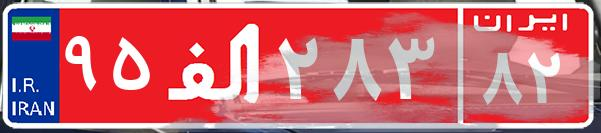2: (273, 28, 330, 110), (525, 38, 570, 115)
3: (385, 28, 445, 110)
5: (110, 28, 158, 105)
8: (330, 28, 385, 110), (475, 38, 525, 113)
9: (57, 26, 110, 107)
الف: (158, 15, 273, 115)
